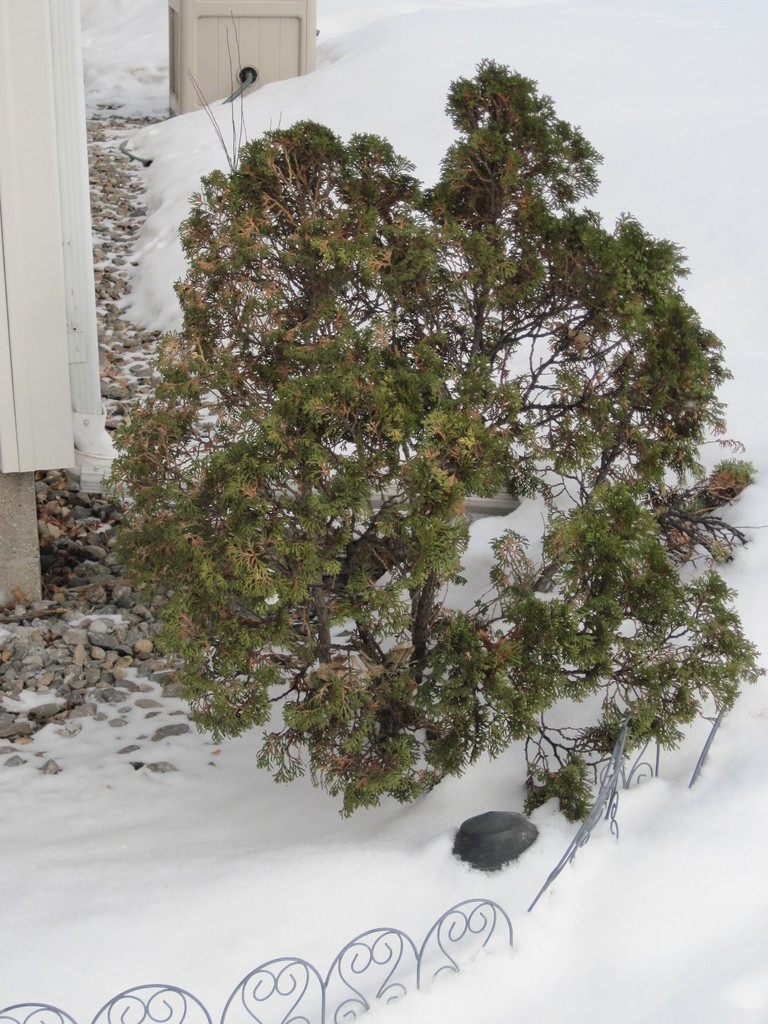Tree: (99, 56, 768, 823)
